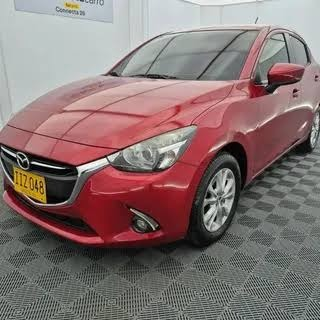car: (8, 15, 317, 251)
